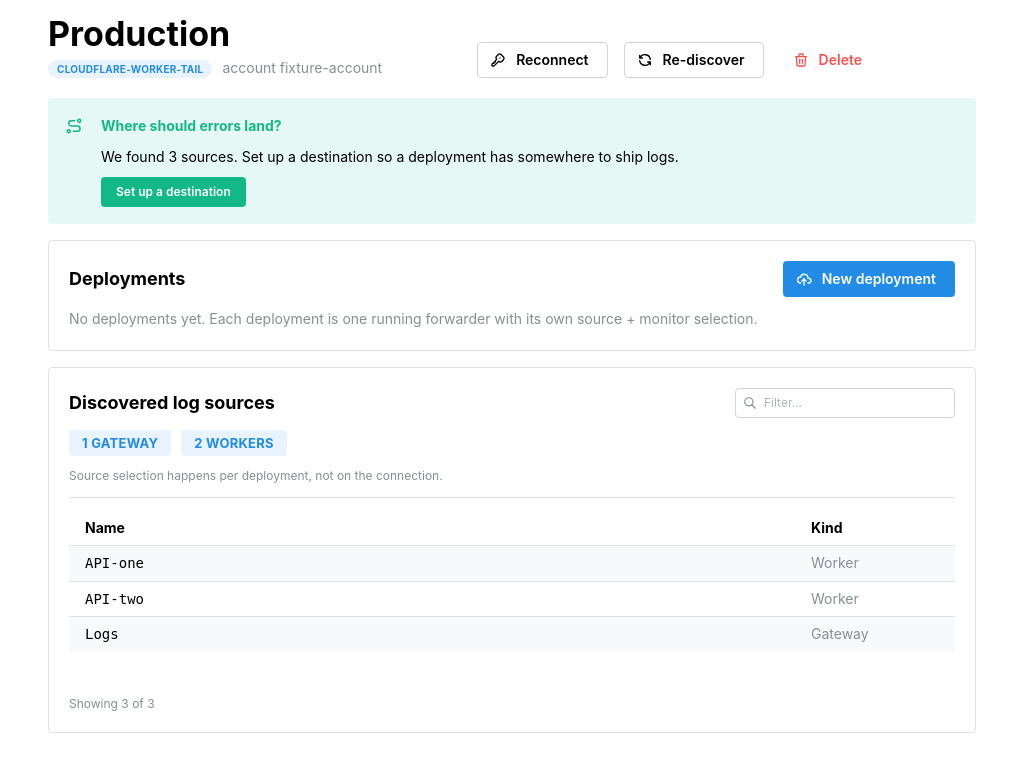
filters by source name or kind and offers destination setup without selecting sources on the connection
expect the heading "Production" is shown: met, box x1=48 y1=13 x2=230 y2=54
expect the text "2 Workers" is shown: met, box x1=194 y1=431 x2=274 y2=455
Step 1. Type "  api  " into the field with placeholder "Filter…" → (845, 403), box x1=735 y1=388 x2=955 y2=418
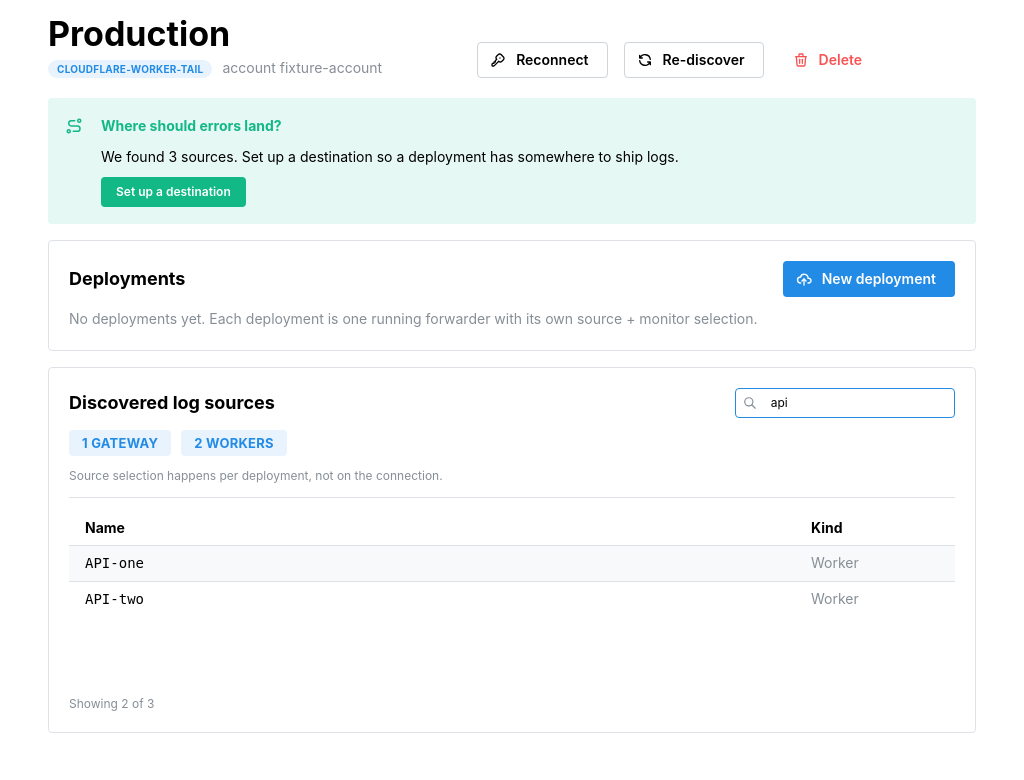
expect the text "Logs" is not shown: met
expect the text "Showing 2 of 3" is shown: met, box x1=69 y1=696 x2=154 y2=711
Step 2. Replace the text in the field with "gateway" → (845, 403), box x1=735 y1=388 x2=955 y2=418
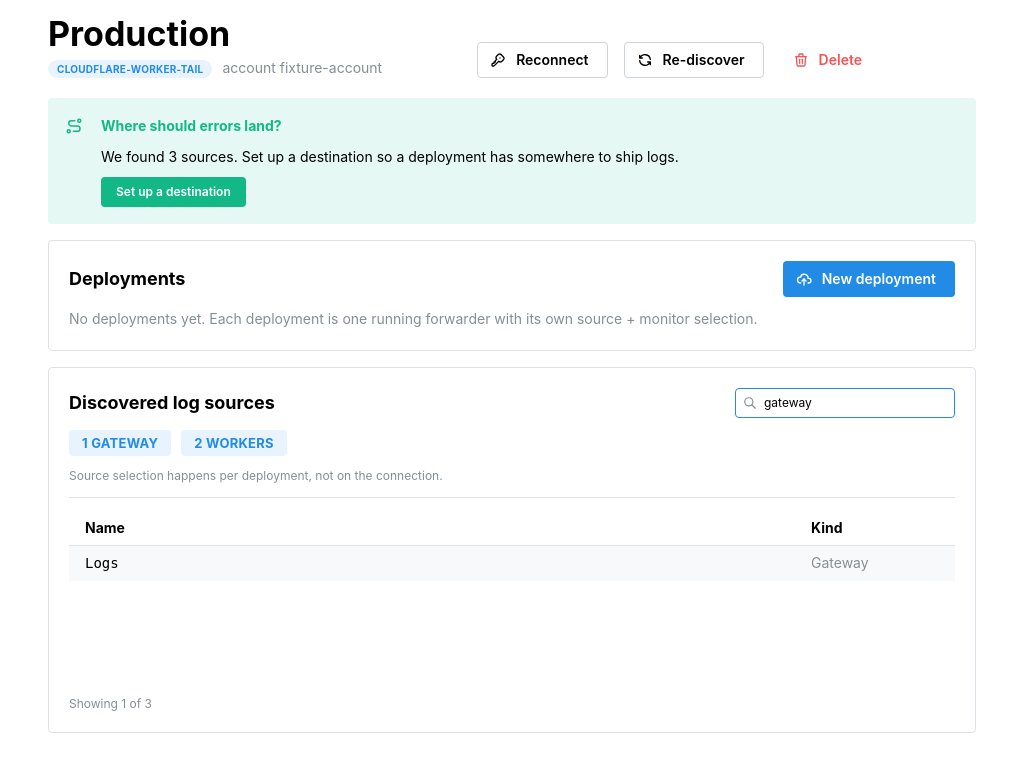
expect the text "Logs" is shown: met, box x1=85 y1=555 x2=119 y2=571
expect the text "Showing 1 of 3" is shown: met, box x1=69 y1=696 x2=152 y2=711
Step 3. Replace the text in the field with "missing" → (845, 403), box x1=735 y1=388 x2=955 y2=418
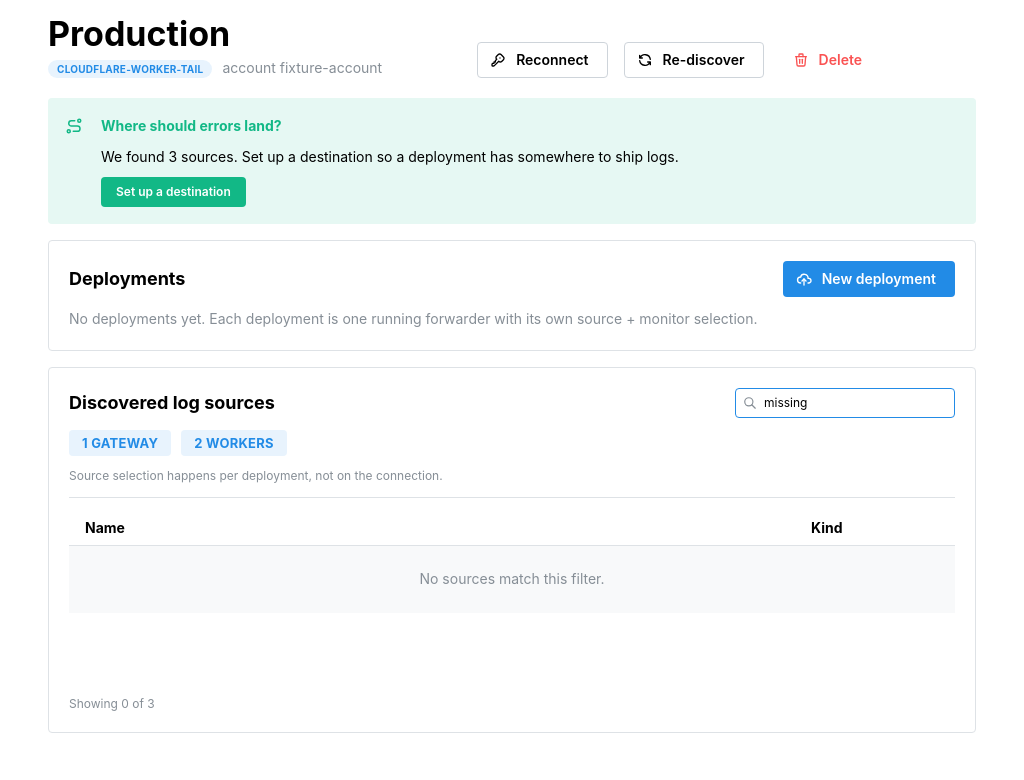
expect the text "No sources match this filter." is shown: met, box x1=420 y1=570 x2=604 y2=587
